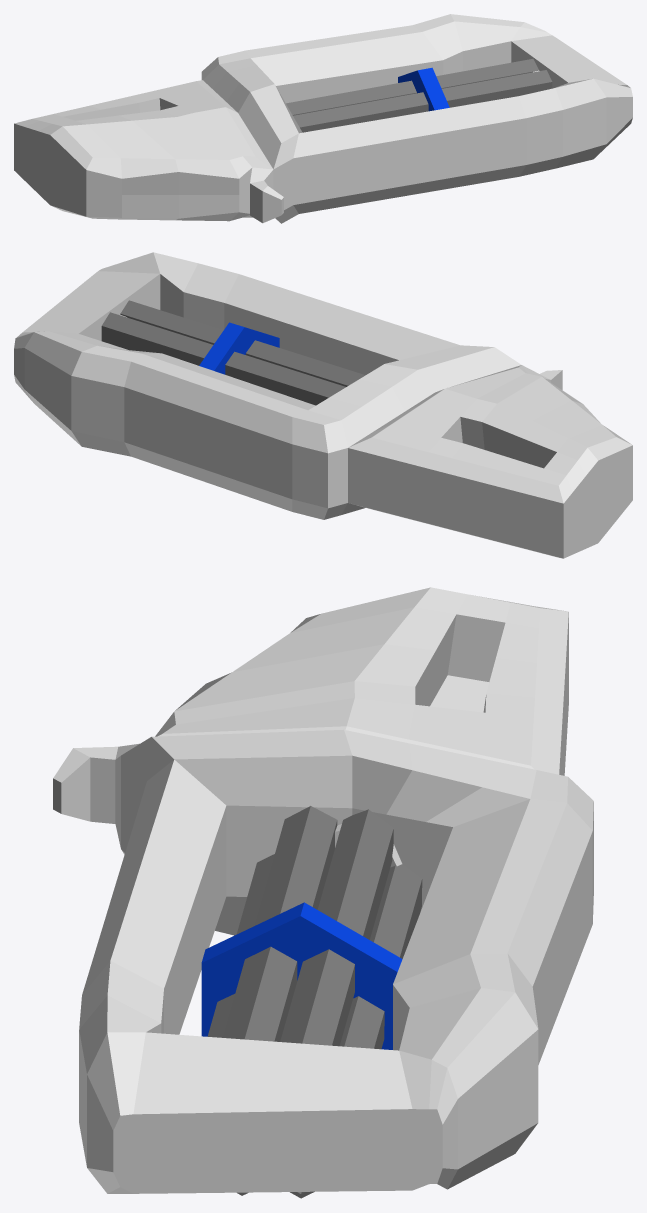
Rendered from Rotary_receiver.fbx.
3 renders of one model, top to bottom at view 1: azimuth 30°, elevation 25°; view 2: azimuth 150°, elevation 25°; view 3: azimuth 270°, elevation 25°, orthographic. The views are drawn at different scales.
Parts seen in each view (by area): view 1: receiver_Rotary; view 2: receiver_Rotary; view 3: receiver_Rotary.
Part boxes in pixels (box(x1,y1,x2,y2)): receiver_Rotary: box(14, 14, 632, 223); receiver_Rotary: box(14, 252, 632, 558); receiver_Rotary: box(53, 587, 593, 1198).
Bounding box in the file's own units: 220 × 47.3 × 102.
